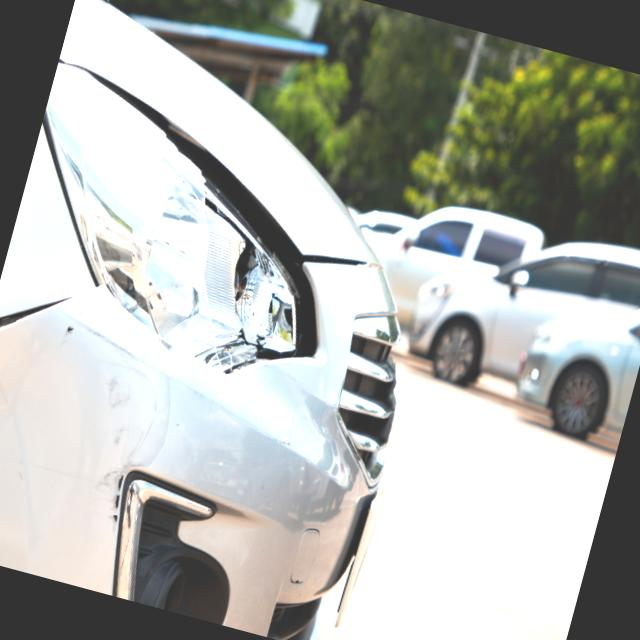Dechirure: (0, 268, 83, 422)
Phare abime: (137, 152, 341, 389)
Rayure: (8, 313, 186, 546)
